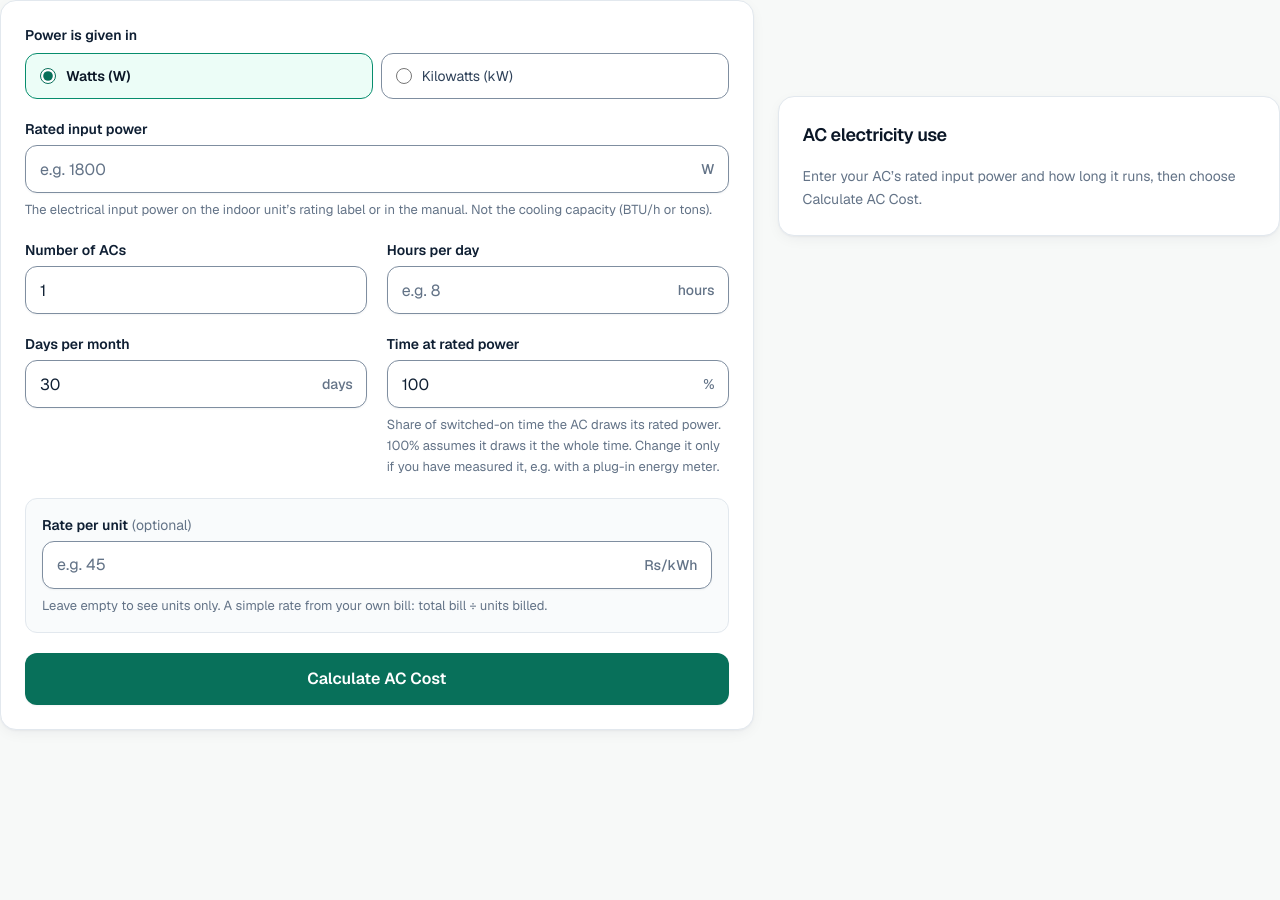
Test: AC calculator › calculates units and cost, sending no figures to analytics
Type "1800" into the field labelled "Rated input power" at x=377, y=169, box [25, 145, 729, 193]
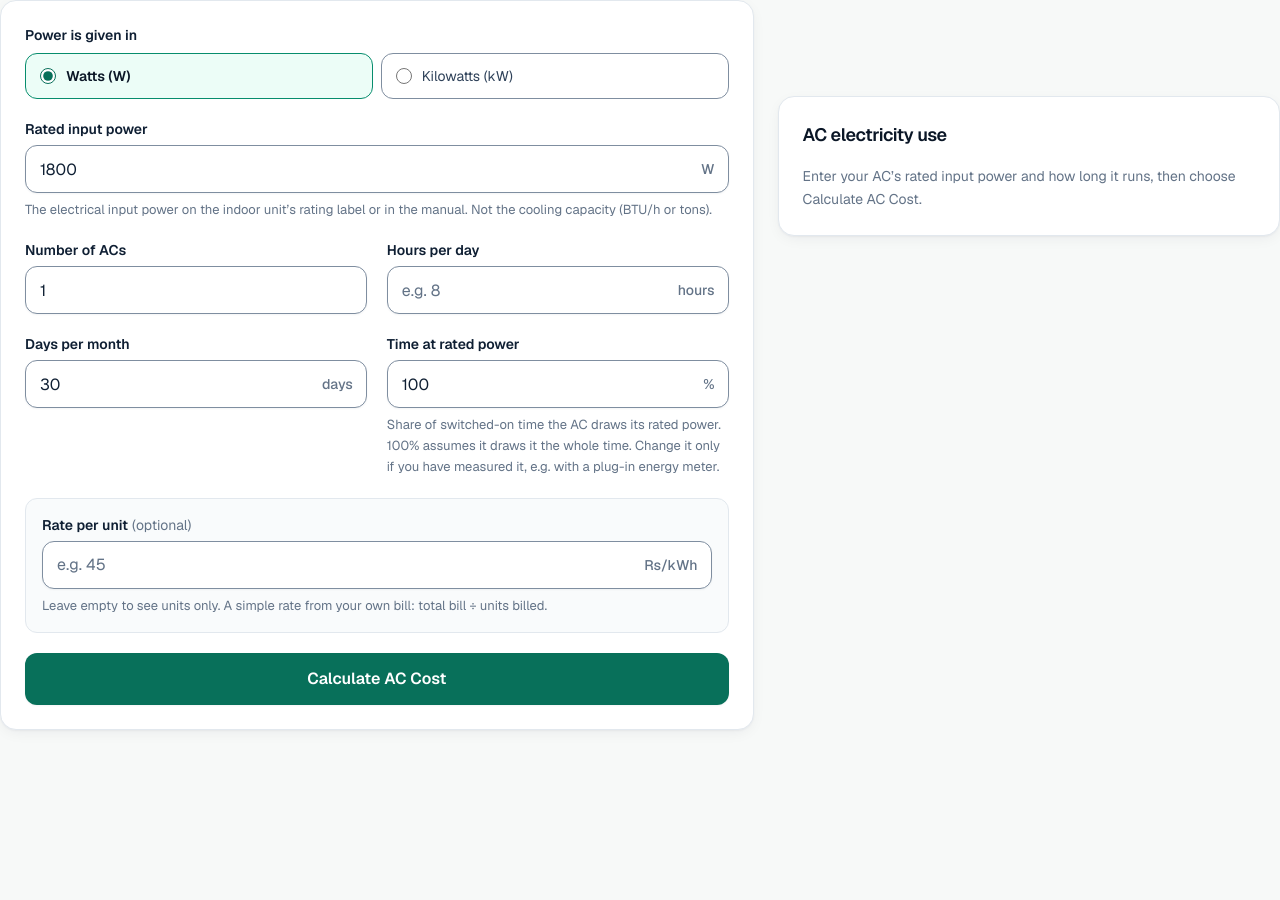
Type "8" into the field labelled "Hours per day" at x=558, y=290, box [387, 266, 729, 314]
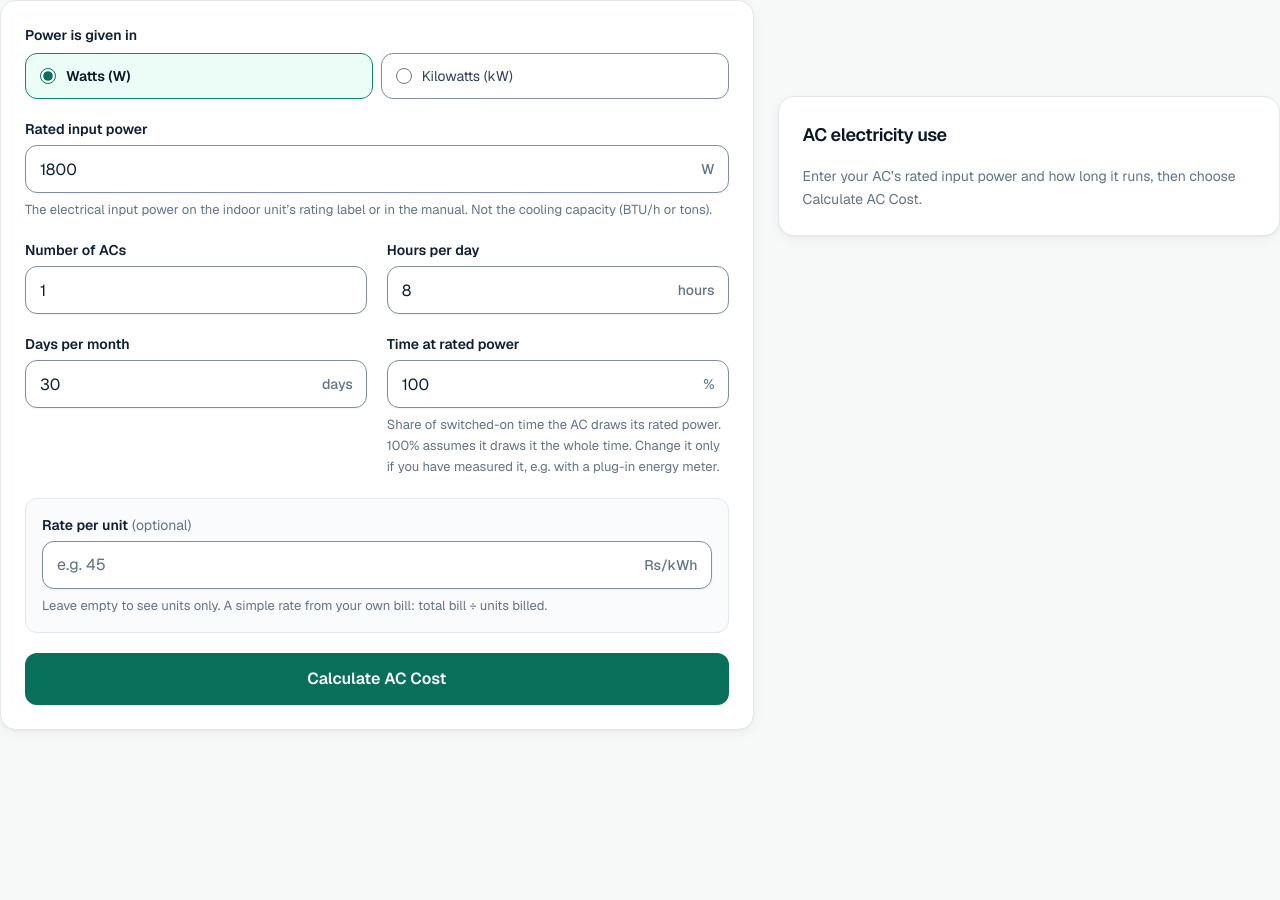
Type "40" into the field labelled "Rate per unit(optional)" at x=377, y=564, box [42, 540, 712, 588]
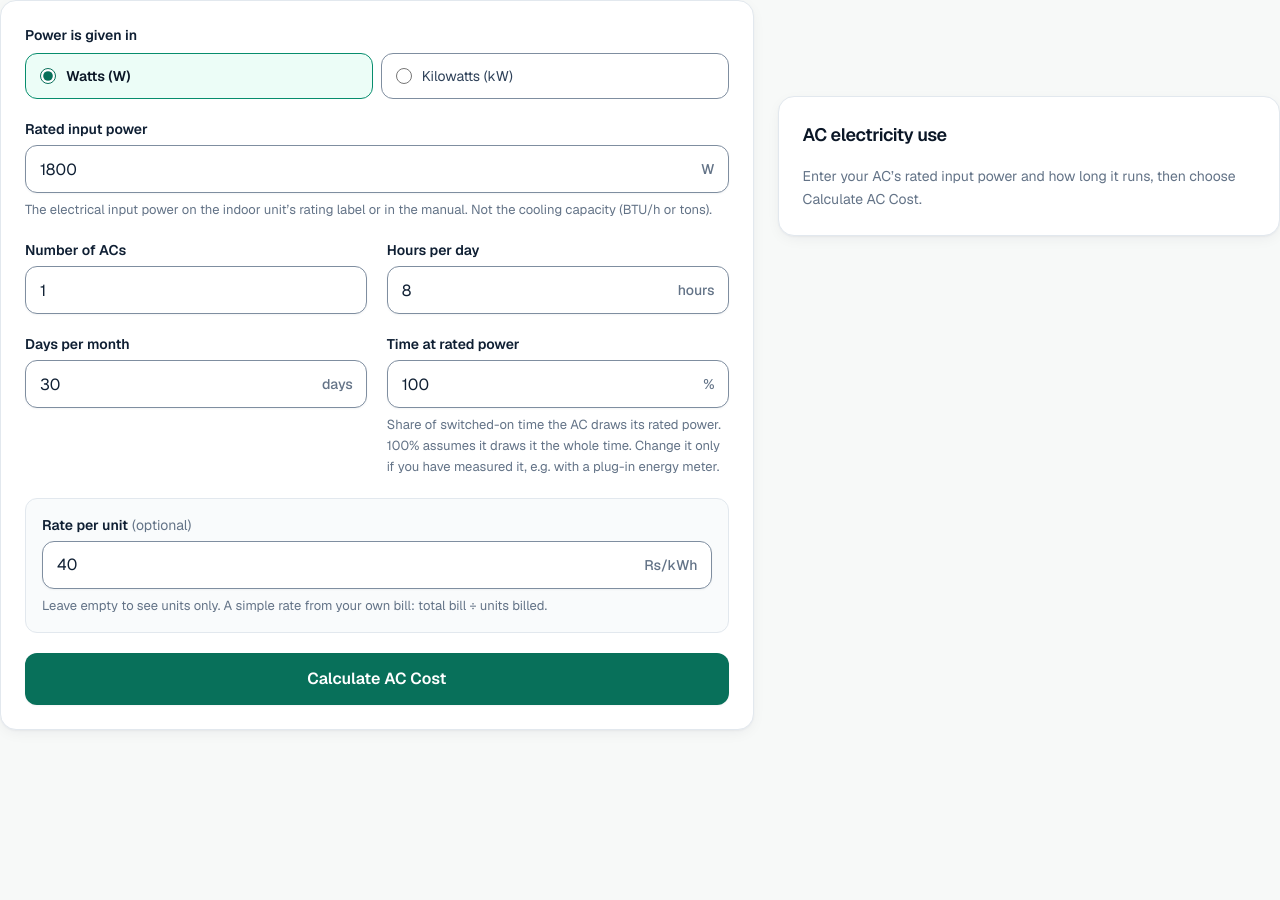
Click the button "Calculate AC Cost" at x=377, y=679, box [25, 653, 729, 705]
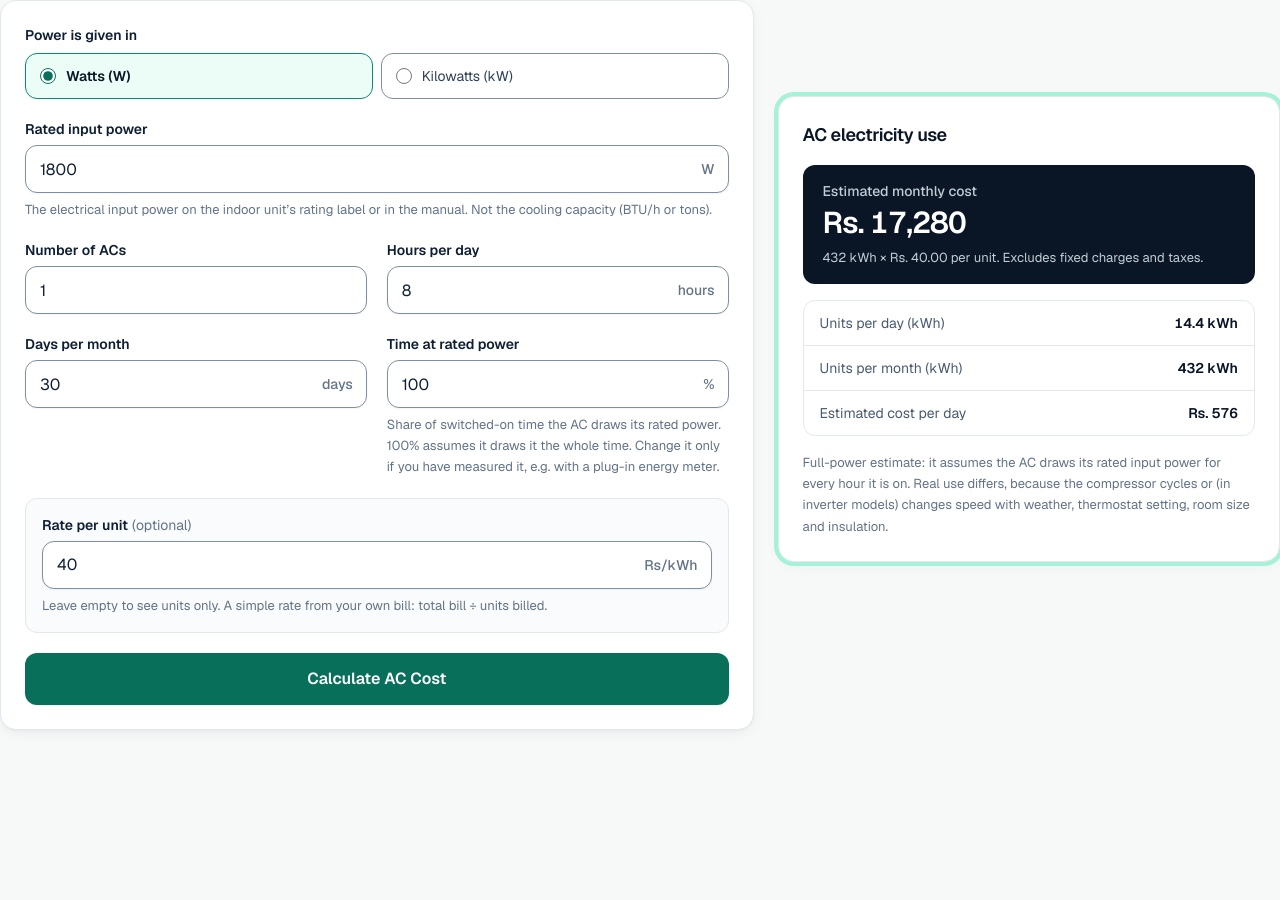
Expected: the text "Rs. 17,280" is shown, [823, 203, 966, 242]
